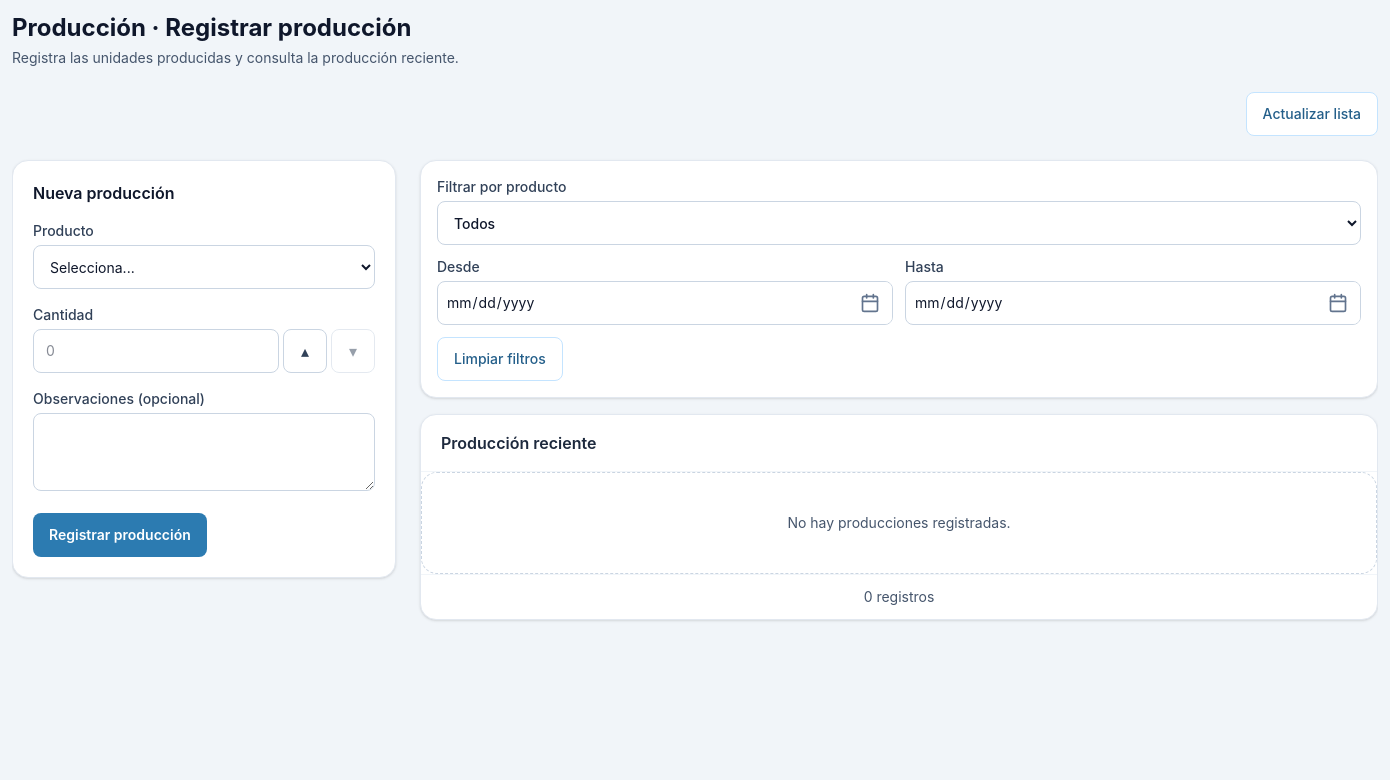
Test: F3b · cantidad con InputNumerico › muestra en tiempo real el error si la cantidad supera los envases vacíos disponibles
This screenshot has width=1390, height=780.
Select "Bidón POL" in the dropdown labelled "Producto" at (204,267), box [33,245,375,289]
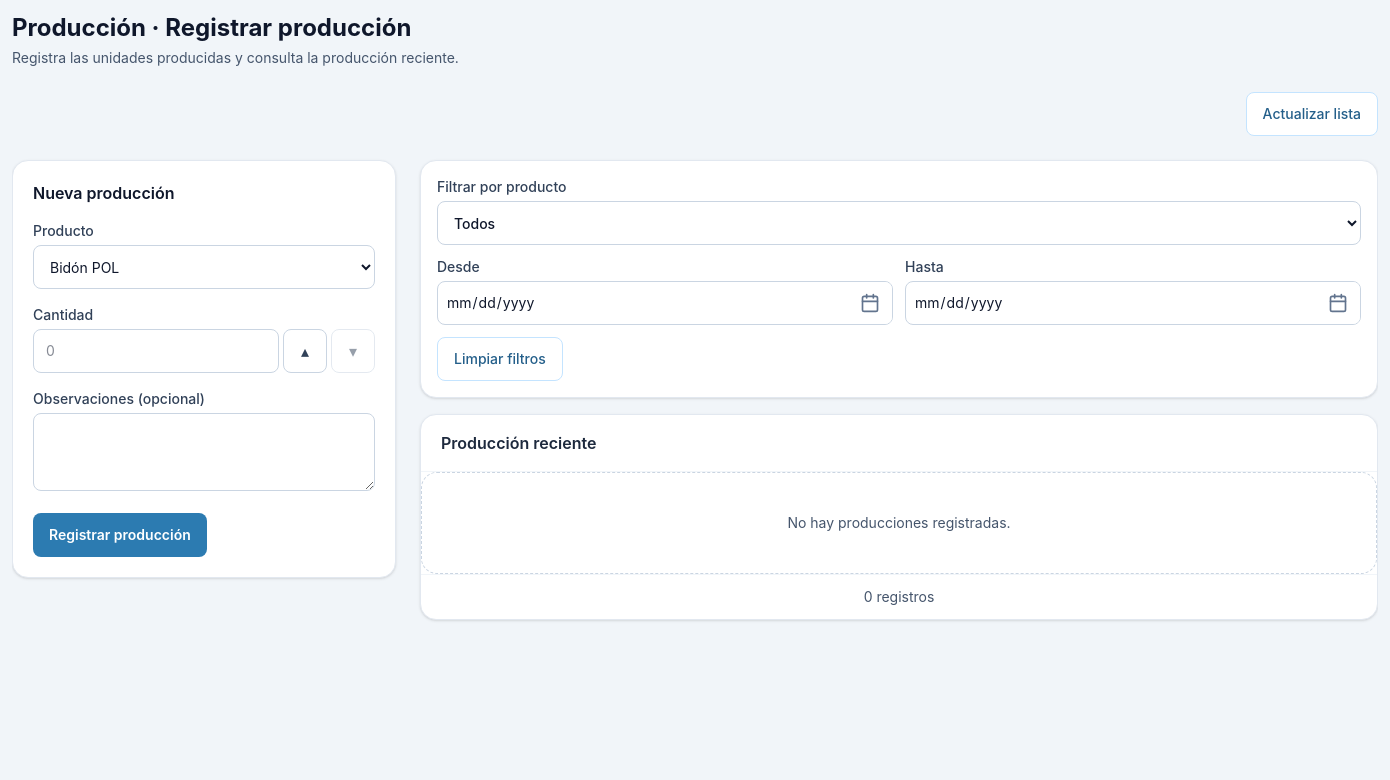
Type "9" into the field labelled "Cantidad" at (156,351), box [33,329,279,373]
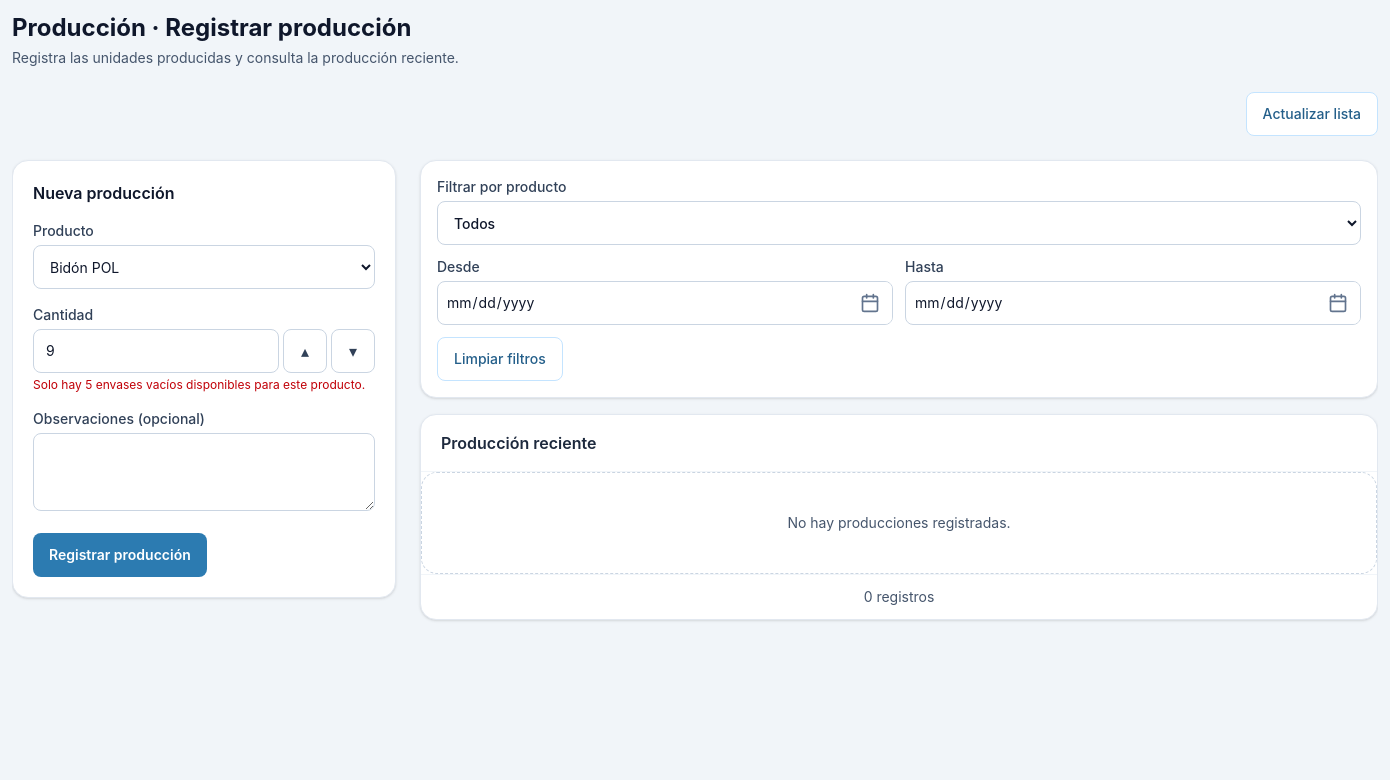
Now the text "Solo hay 5 envases vacíos disponibles para este producto." is shown, box [33,377,375,393]
Replace the text in the field labelled "Cantidad" with "5" at (156,351), box [33,329,279,373]
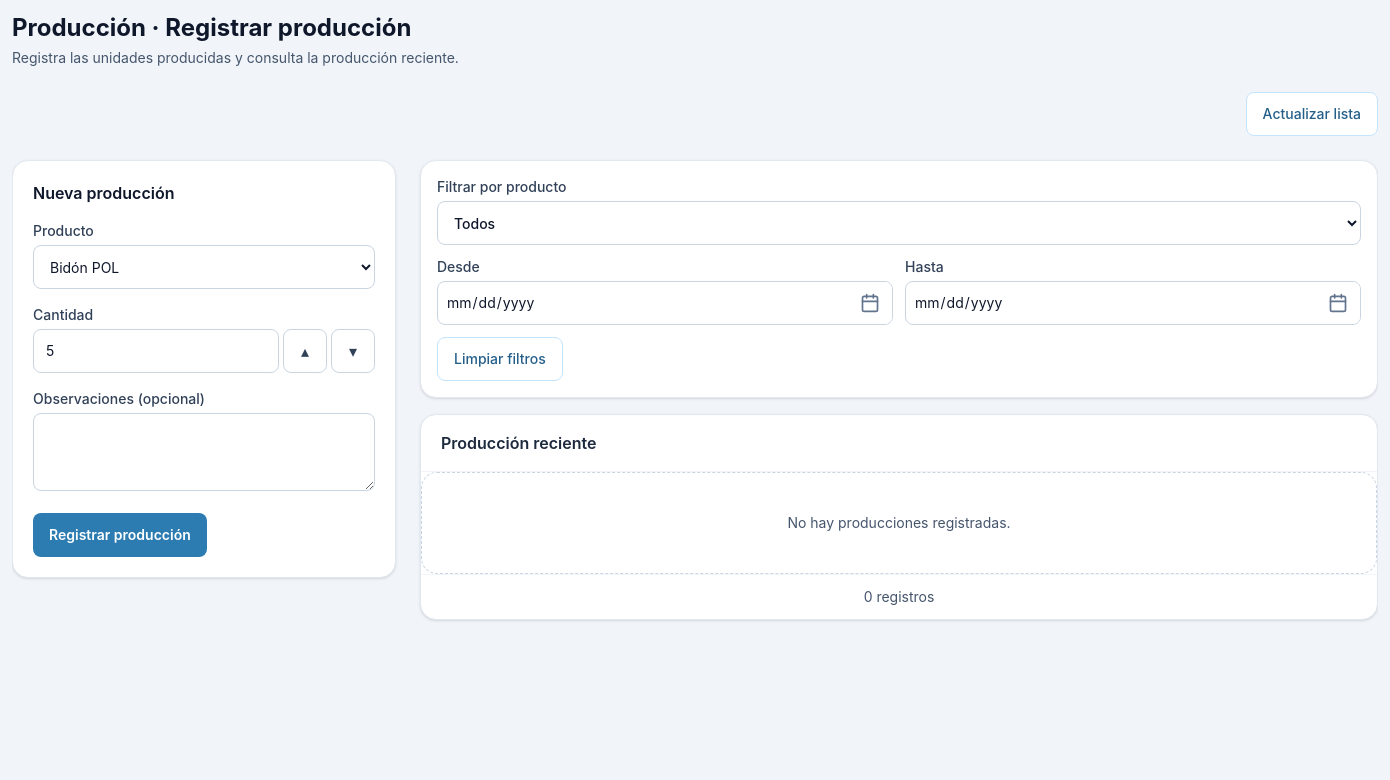
Now the text "envases vacíos disponibles para este producto" is gone
